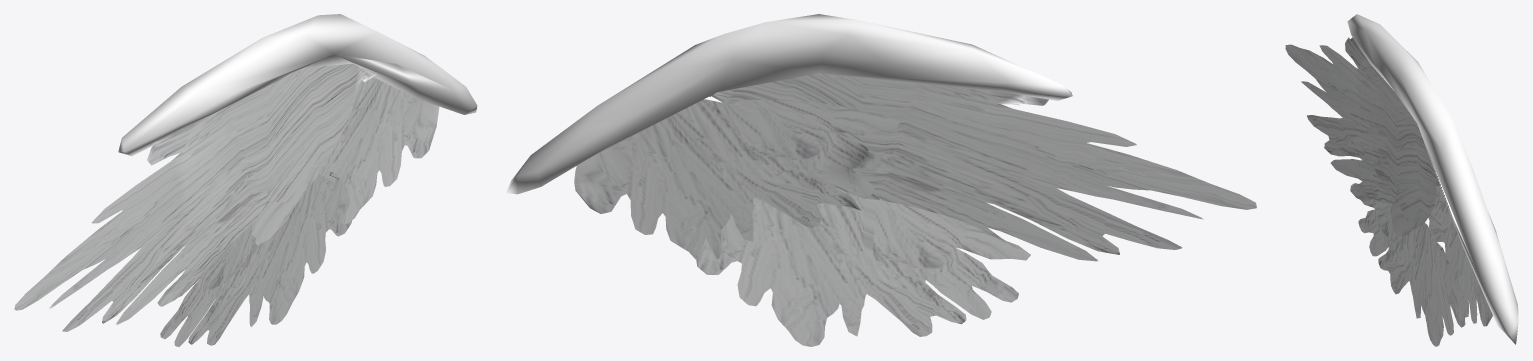
File: AngelL.glb
The picture shows the model from 3 angles, left to right: view 1: azimuth 30°, elevation 25°; view 2: azimuth 150°, elevation 25°; view 3: azimuth 270°, elevation 25°; orthographic projection. The views are drawn at different scales.
Visible parts, largest first — view 1: hane_L; view 2: hane_L; view 3: hane_L.
Part boxes in pixels (x1,y1,x2,y2): hane_L: (14,14,477,346); hane_L: (506,14,1256,346); hane_L: (1285,14,1518,346).
Bounding box in the file's own units: 0.5772 × 0.2869 × 0.2167.
Materials: 1 (1 with a texture image).
